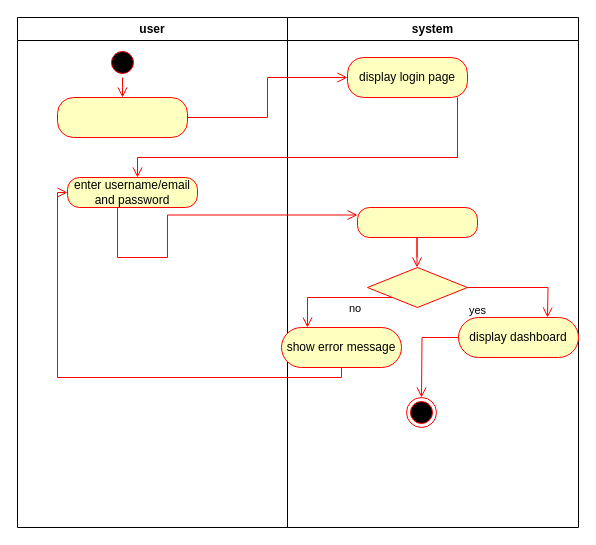
Some shapes in this 596 by 545 pixel diagram are drawn without their labels. The centre of each missing label's shape, as x and y in pixels:
"input exists?" goes at (417,287).
"open login page" goes at (122,117).
"verify details" goes at (417,222).
